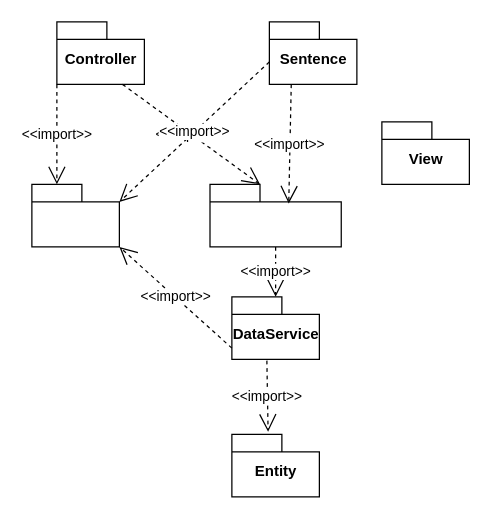
The diagram is 491 pixels wide and 519 high, and some of its shapes have lost their labels. Each missing label, with the centre of its shape:
DataAccessor: pixel 275 215
Helper: pixel 75 215
